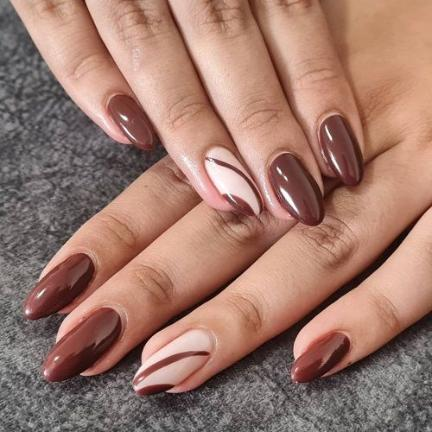Nail: (318, 114, 362, 185)
